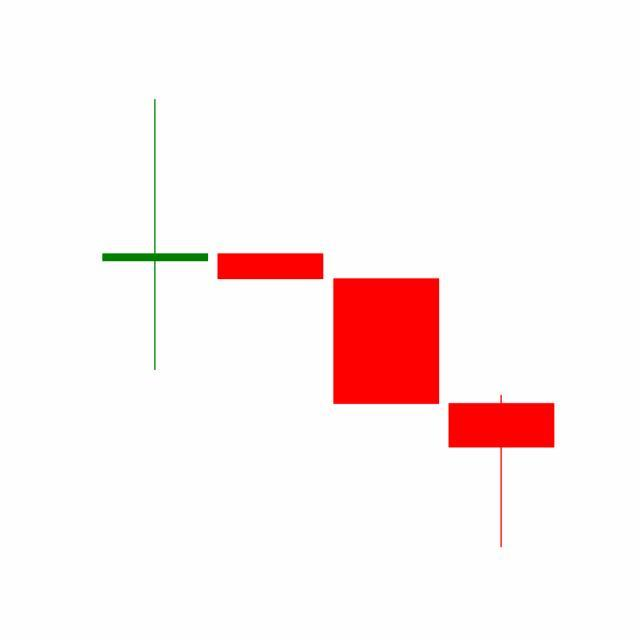Marubozu: (329, 277, 445, 407)
